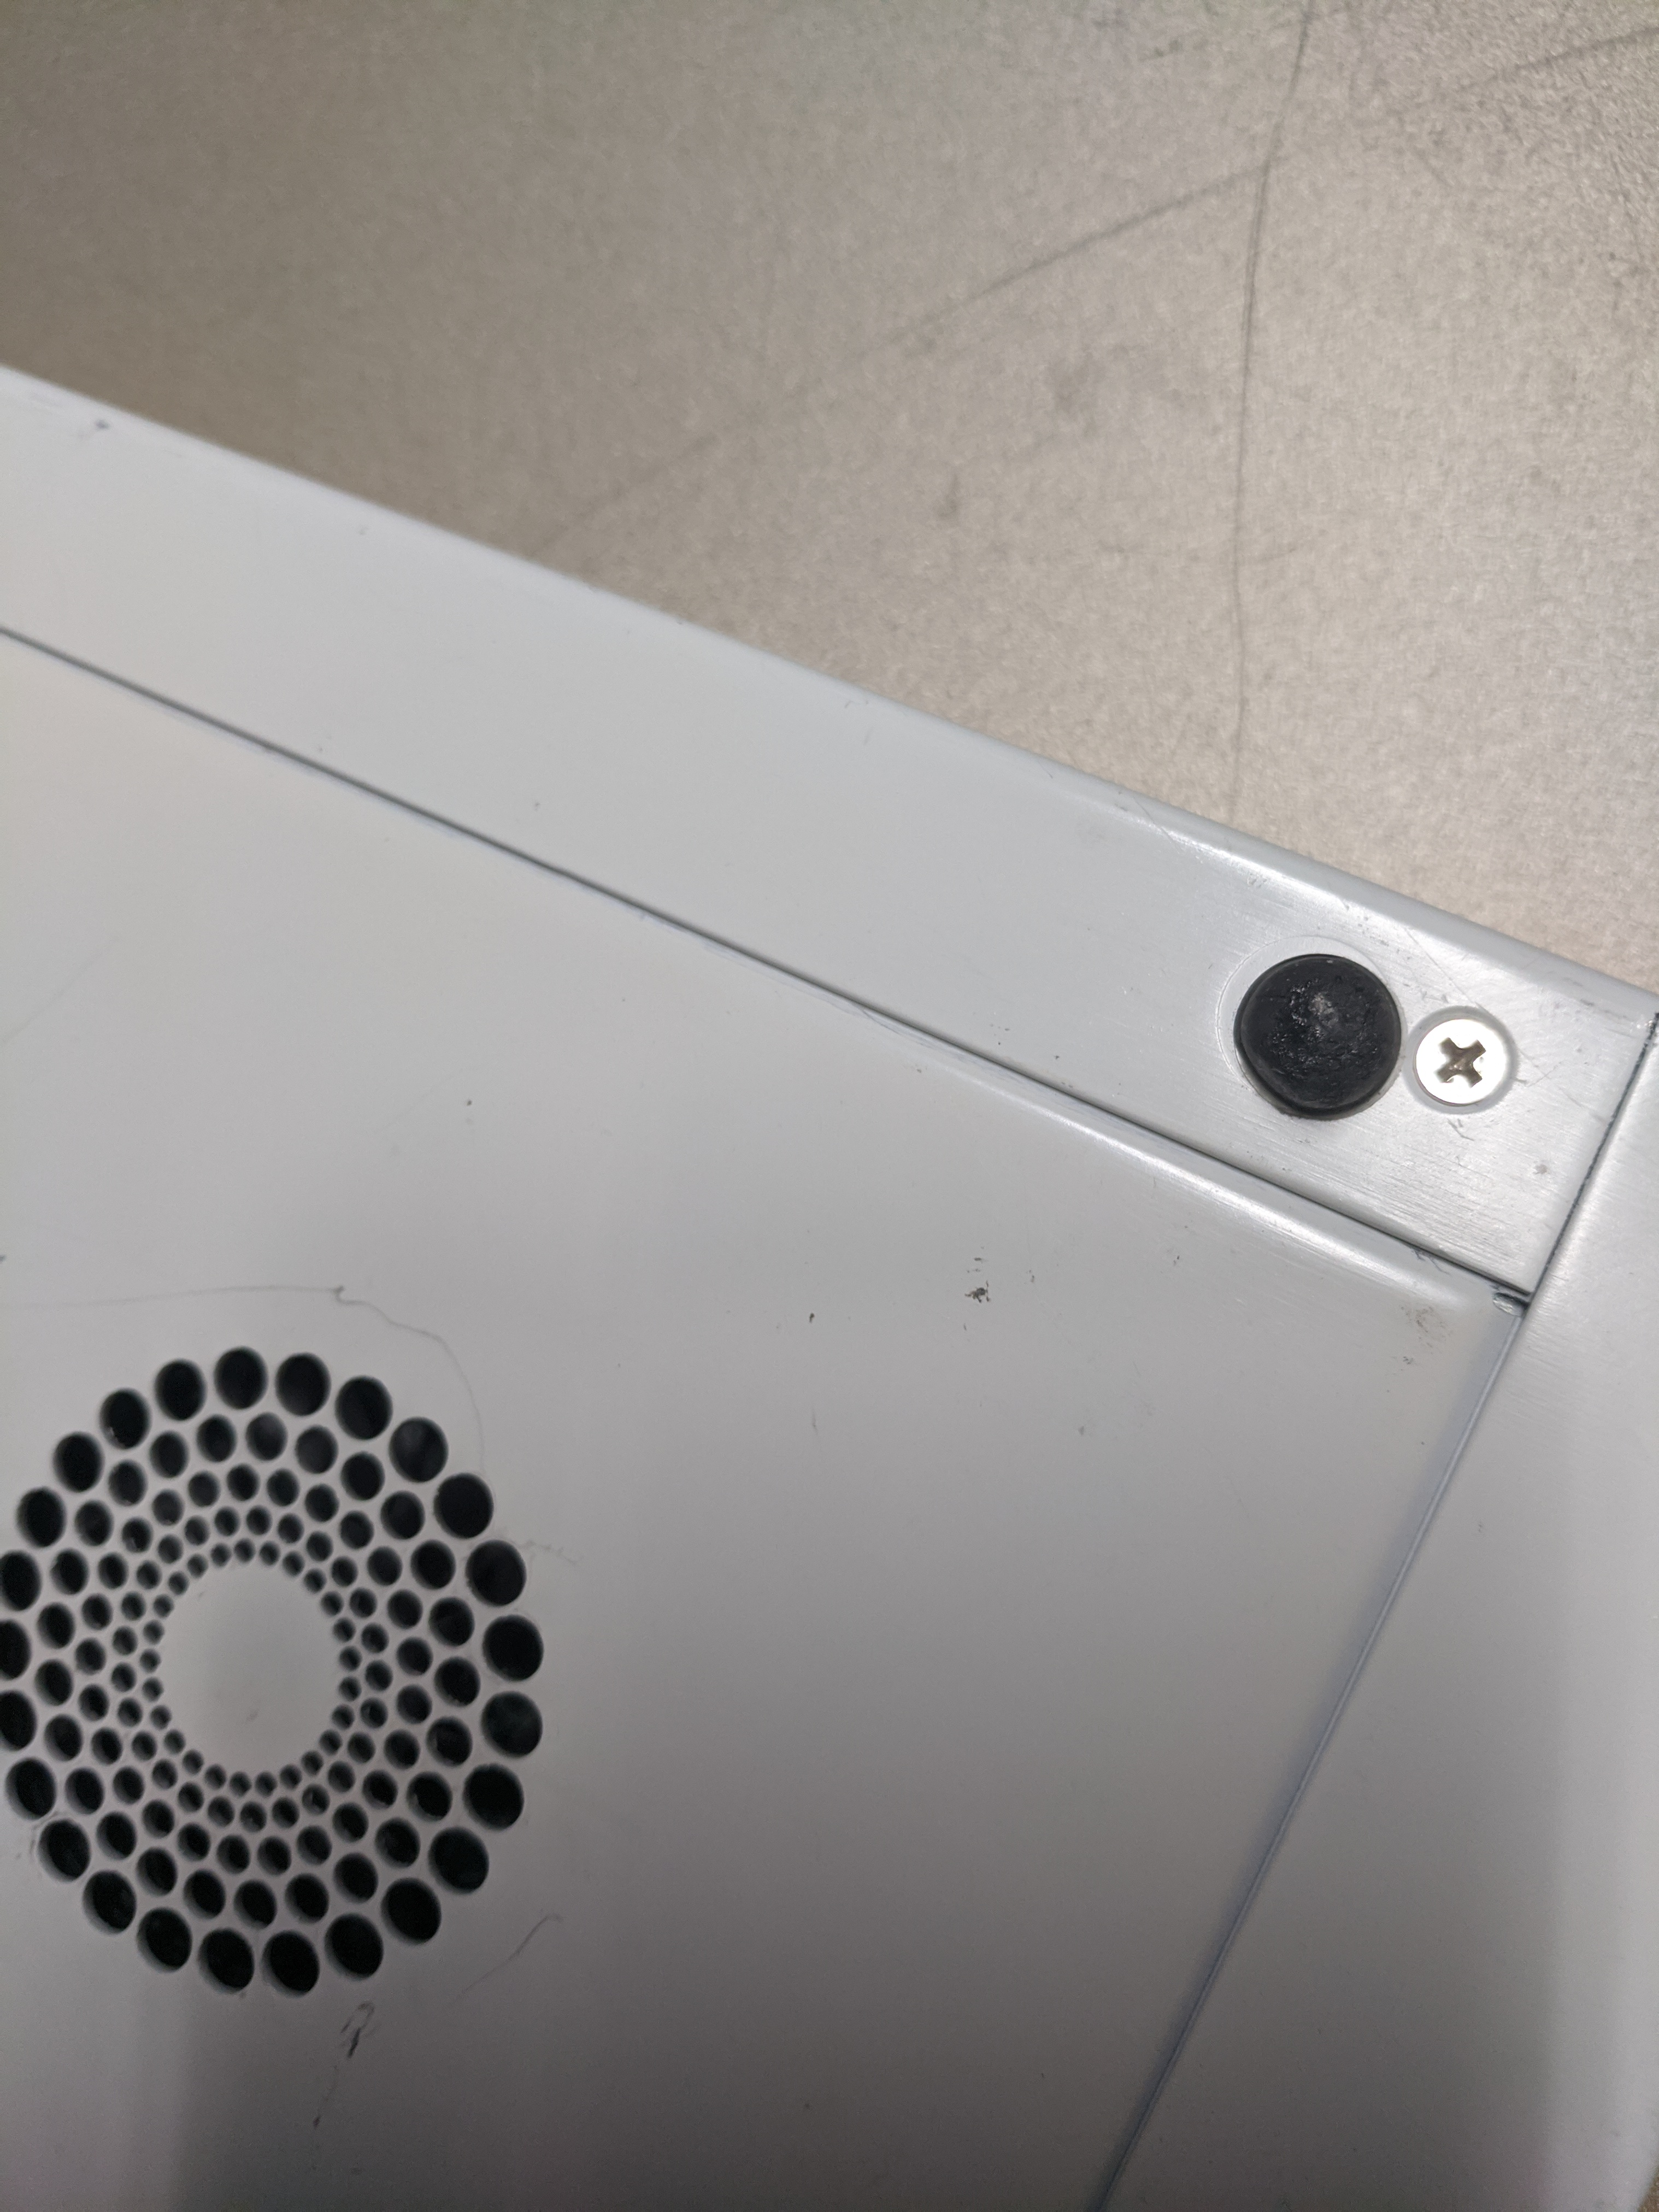cross_recessed_screw: (1394, 977, 1530, 1116)
